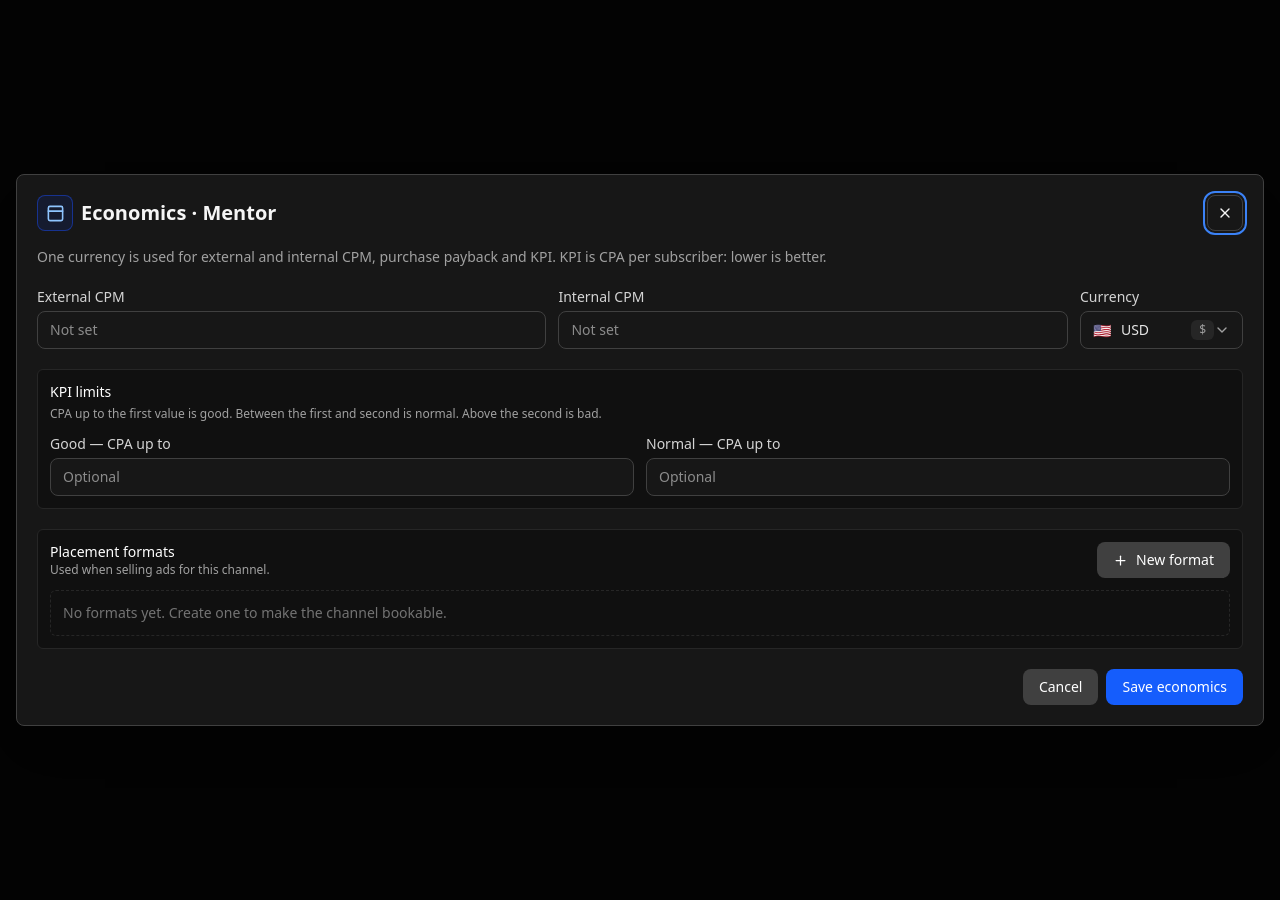
ChannelEconomicsSummary › uses the unclipped portal select with the concise Currency label
Expected: the text "Currency" is shown, [1080, 287, 1139, 306]
Click the button "🇺🇸 USD $": (1162, 330) [1080, 311, 1243, 349]
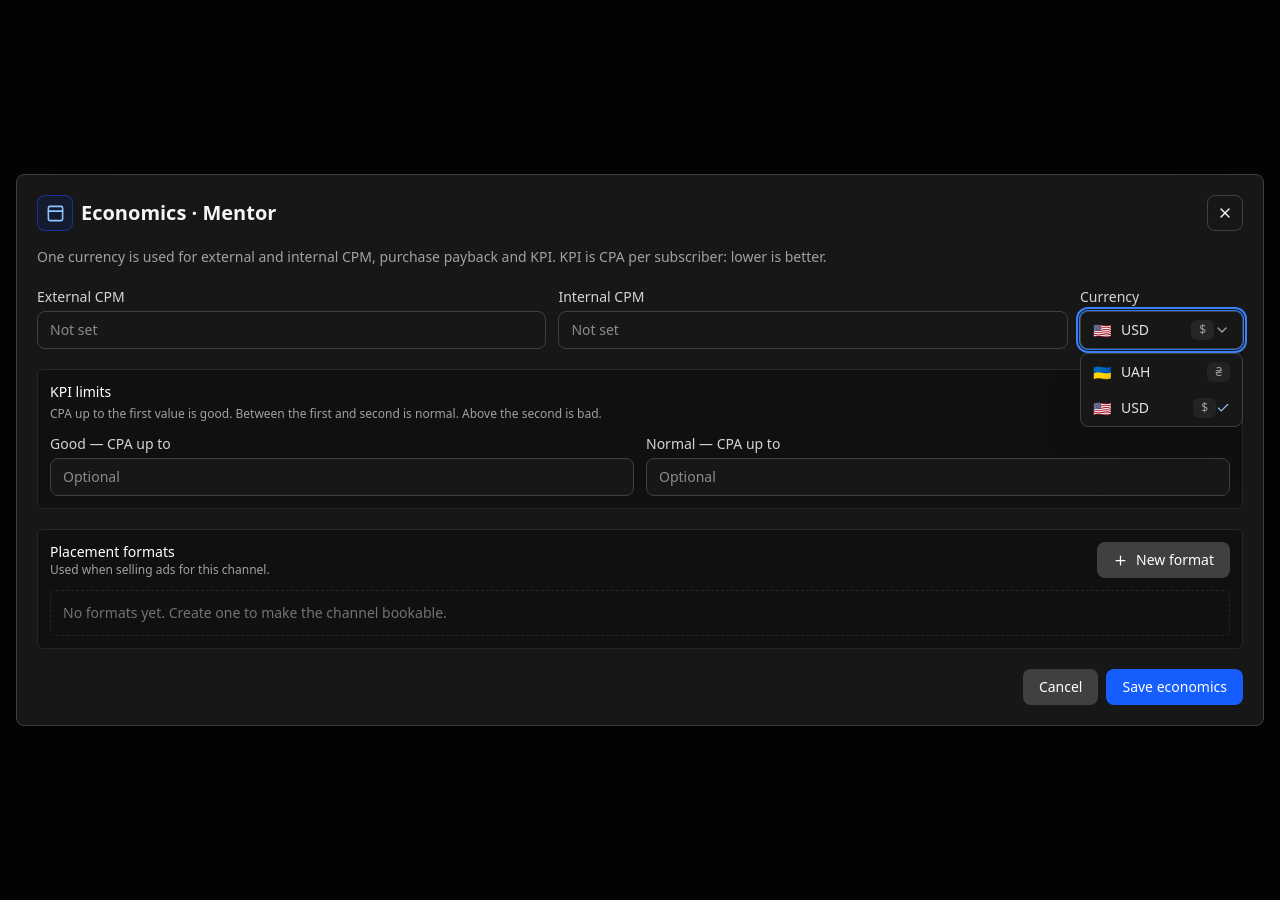
Now the button "🇺🇦 UAH ₴" is shown, box [1081, 354, 1242, 390]
